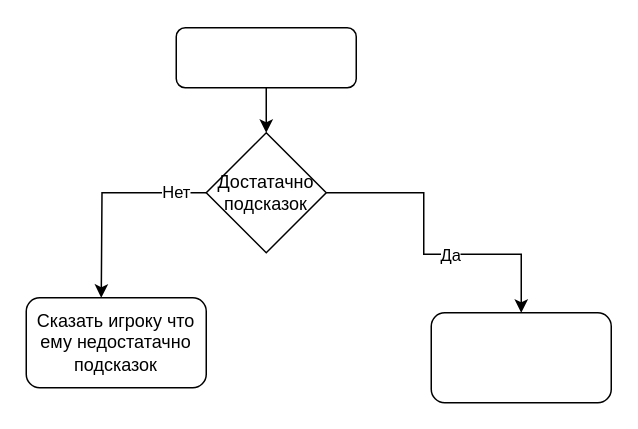
Image size: 638x429. Some labels were removed from this diagram. The centre of each missing label's shape, as x and y in pixels:
Нажата кнопка "Вычеслить преступника": (265,57)
Открыть личность преступника: (520,357)
